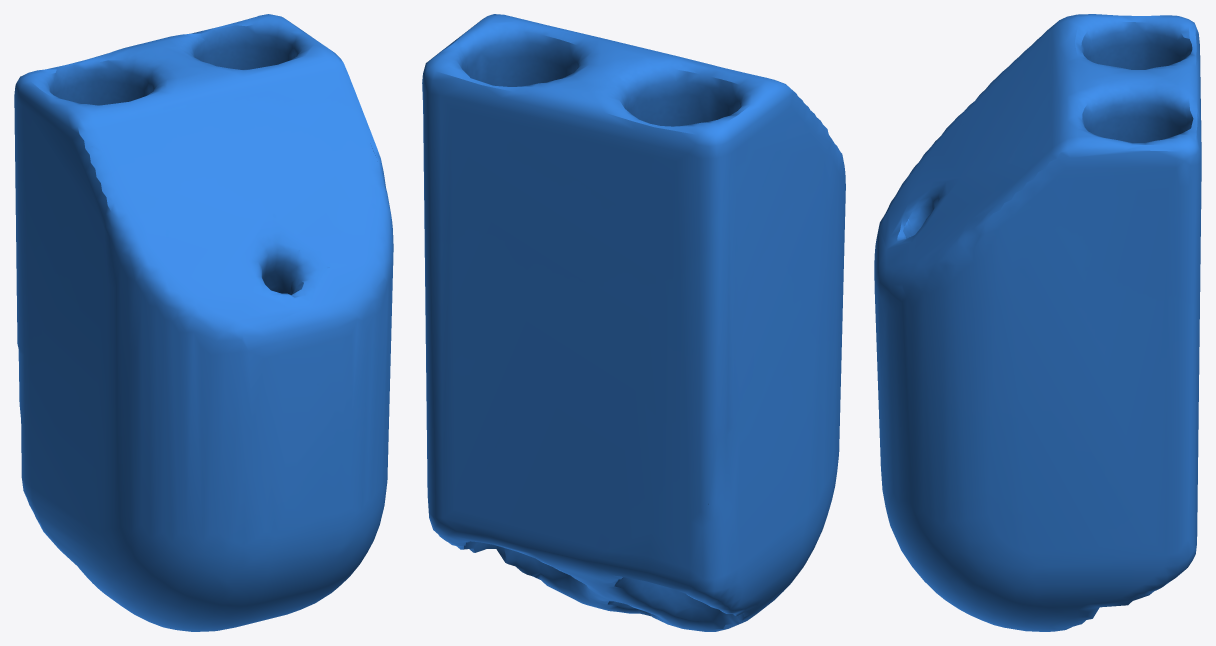
Rendered from right_finger1_upper.glb.
The picture shows the model from 3 angles, left to right: view 1: azimuth 30°, elevation 25°; view 2: azimuth 150°, elevation 25°; view 3: azimuth 270°, elevation 25°; orthographic projection. The views are drawn at different scales.
Visible parts, largest first — view 1: right_finger1_upper; view 2: right_finger1_upper; view 3: right_finger1_upper.
Boxes of the visible parts, <box> form: right_finger1_upper: <box>14,14,393,631</box>; right_finger1_upper: <box>422,14,845,631</box>; right_finger1_upper: <box>874,14,1201,631</box>.
Bounding box in the file's own units: 0.0099 × 0.0181 × 0.0101.
1 material, 1 textured.
